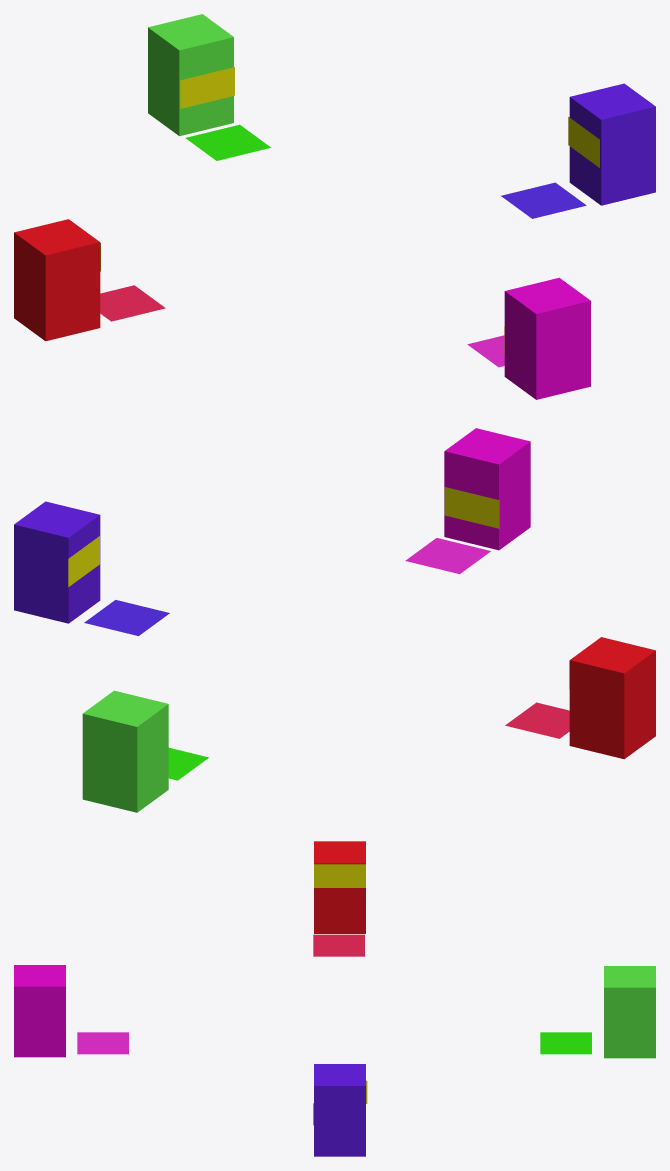
3 renders of one model, top to bottom at view 1: azimuth 30°, elevation 25°; view 2: azimuth 150°, elevation 25°; view 3: azimuth 270°, elevation 25°, orthographic. The views are drawn at different scales.
Visible parts, largest first — view 1: Cube.002, Cube, Cube.003, Cube.001, Plane.002, Plane.006, Plane.008, Plane.004, Plane.007, Plane.003; view 2: Cube.001, Cube, Cube.003, Cube.002, Plane.003, Plane.002, Plane.009, Plane.004, Plane.007, Plane.006; view 3: Cube.003, Cube.002, Cube.001, Cube, Plane, Plane.006, Plane.004, Plane.003.
Boxes of the visible parts, box(x1,y1,x2,y2) form: Cube.002: box(504, 277, 590, 399); Cube: box(14, 219, 100, 341); Cube.003: box(569, 83, 655, 205); Cube.001: box(148, 14, 233, 136); Plane.002: box(501, 182, 586, 218); Plane.006: box(185, 124, 270, 160); Plane.008: box(180, 67, 234, 108); Plane.004: box(100, 285, 165, 321); Plane.007: box(568, 117, 599, 167); Plane.003: box(467, 335, 504, 367); Cube.001: box(82, 690, 168, 812); Cube: box(569, 637, 655, 759); Cube.003: box(14, 501, 100, 623); Cube.002: box(444, 428, 530, 550); Plane.003: box(405, 538, 490, 574); Plane.002: box(84, 600, 169, 635); Plane.009: box(444, 487, 499, 528); Plane.004: box(505, 702, 569, 738); Plane.007: box(68, 536, 99, 586); Plane.006: box(168, 747, 208, 780); Cube.003: box(314, 1064, 365, 1156); Cube.002: box(14, 965, 65, 1057); Cube.001: box(604, 966, 655, 1058); Cube: box(314, 841, 365, 933); Plane: box(314, 864, 365, 887); Plane.006: box(540, 1032, 591, 1054); Plane.004: box(313, 934, 364, 956); Plane.003: box(77, 1032, 128, 1054).
Size of the model in its own units: 22.32 by 24.77 by 3.
